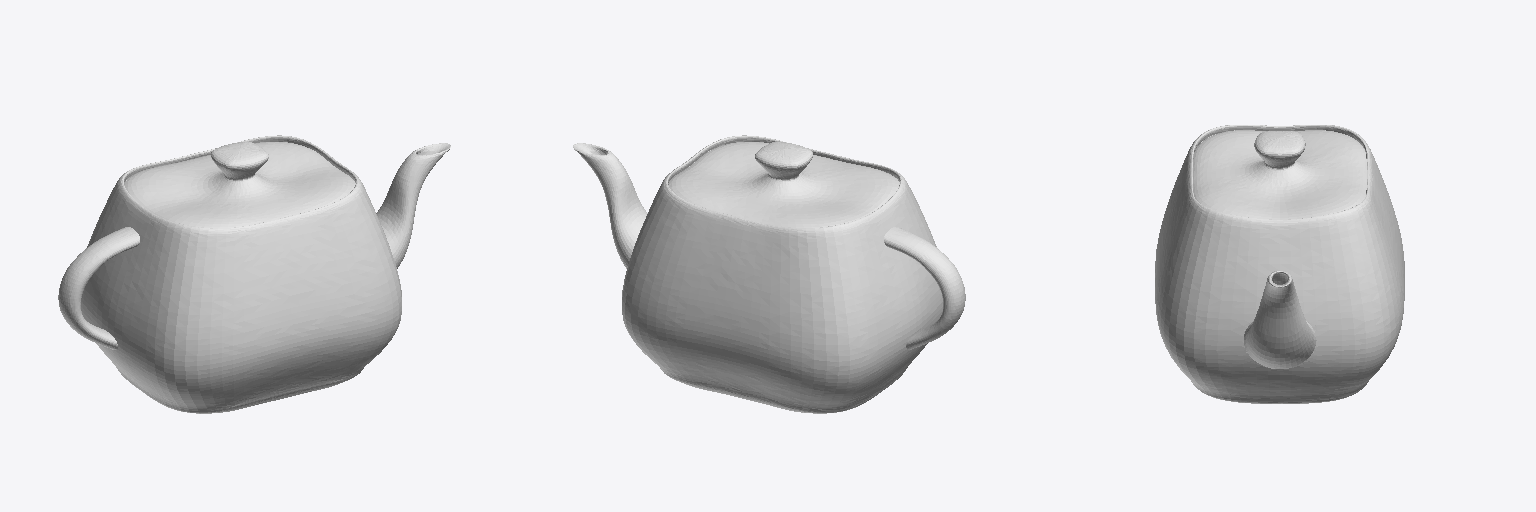
3 views of the same model, side by side, from view 1: azimuth 30°, elevation 25°; view 2: azimuth 150°, elevation 25°; view 3: azimuth 270°, elevation 25° (orthographic).
Parts seen in each view (by area): view 1: Teapot_Square_Teapot_002; view 2: Teapot_Square_Teapot_002; view 3: Teapot_Square_Teapot_002.
Boxes of the visible parts, <box> form: Teapot_Square_Teapot_002: <box>58,135,450,413</box>; Teapot_Square_Teapot_002: <box>573,135,965,413</box>; Teapot_Square_Teapot_002: <box>1155,125,1404,403</box>.
Size of the model in its own units: 0.2761 by 0.1501 by 0.1533.
1 materials, 1 textured.